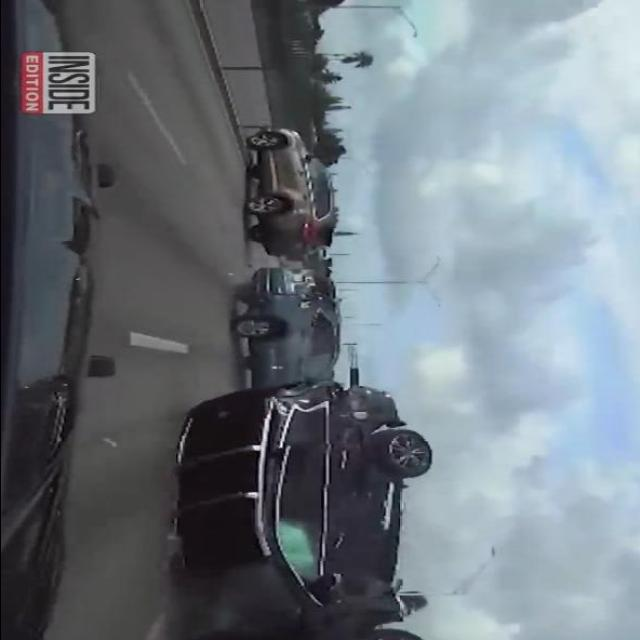accident: (190, 378, 428, 640)
